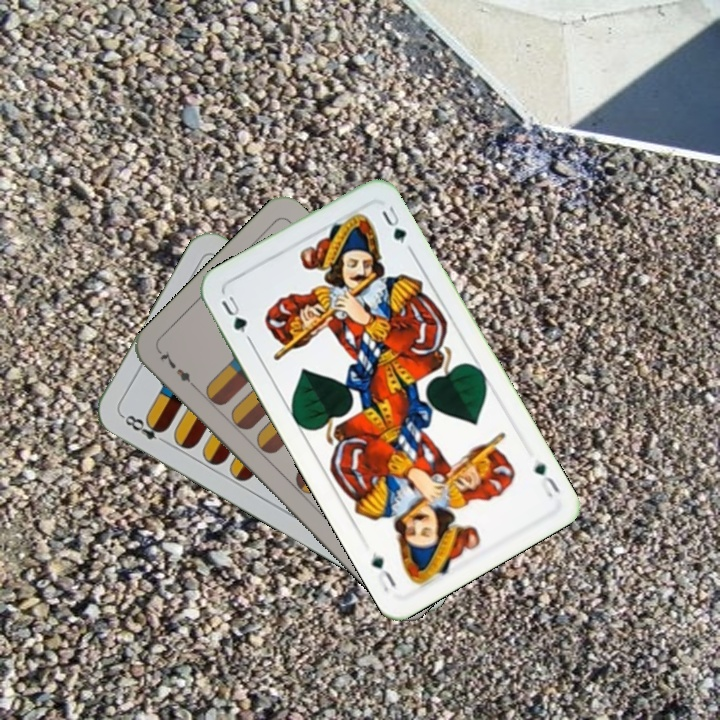E7: (155, 346, 201, 393)
E8: (117, 410, 171, 447)
GU: (529, 454, 563, 500), (217, 291, 250, 336)
